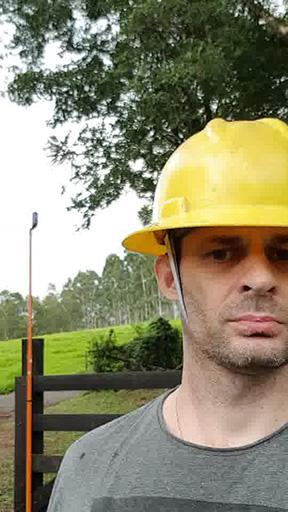Detector_Tensao_Contato: (29, 209, 39, 234)
Vara_Manobra: (26, 231, 34, 512)
